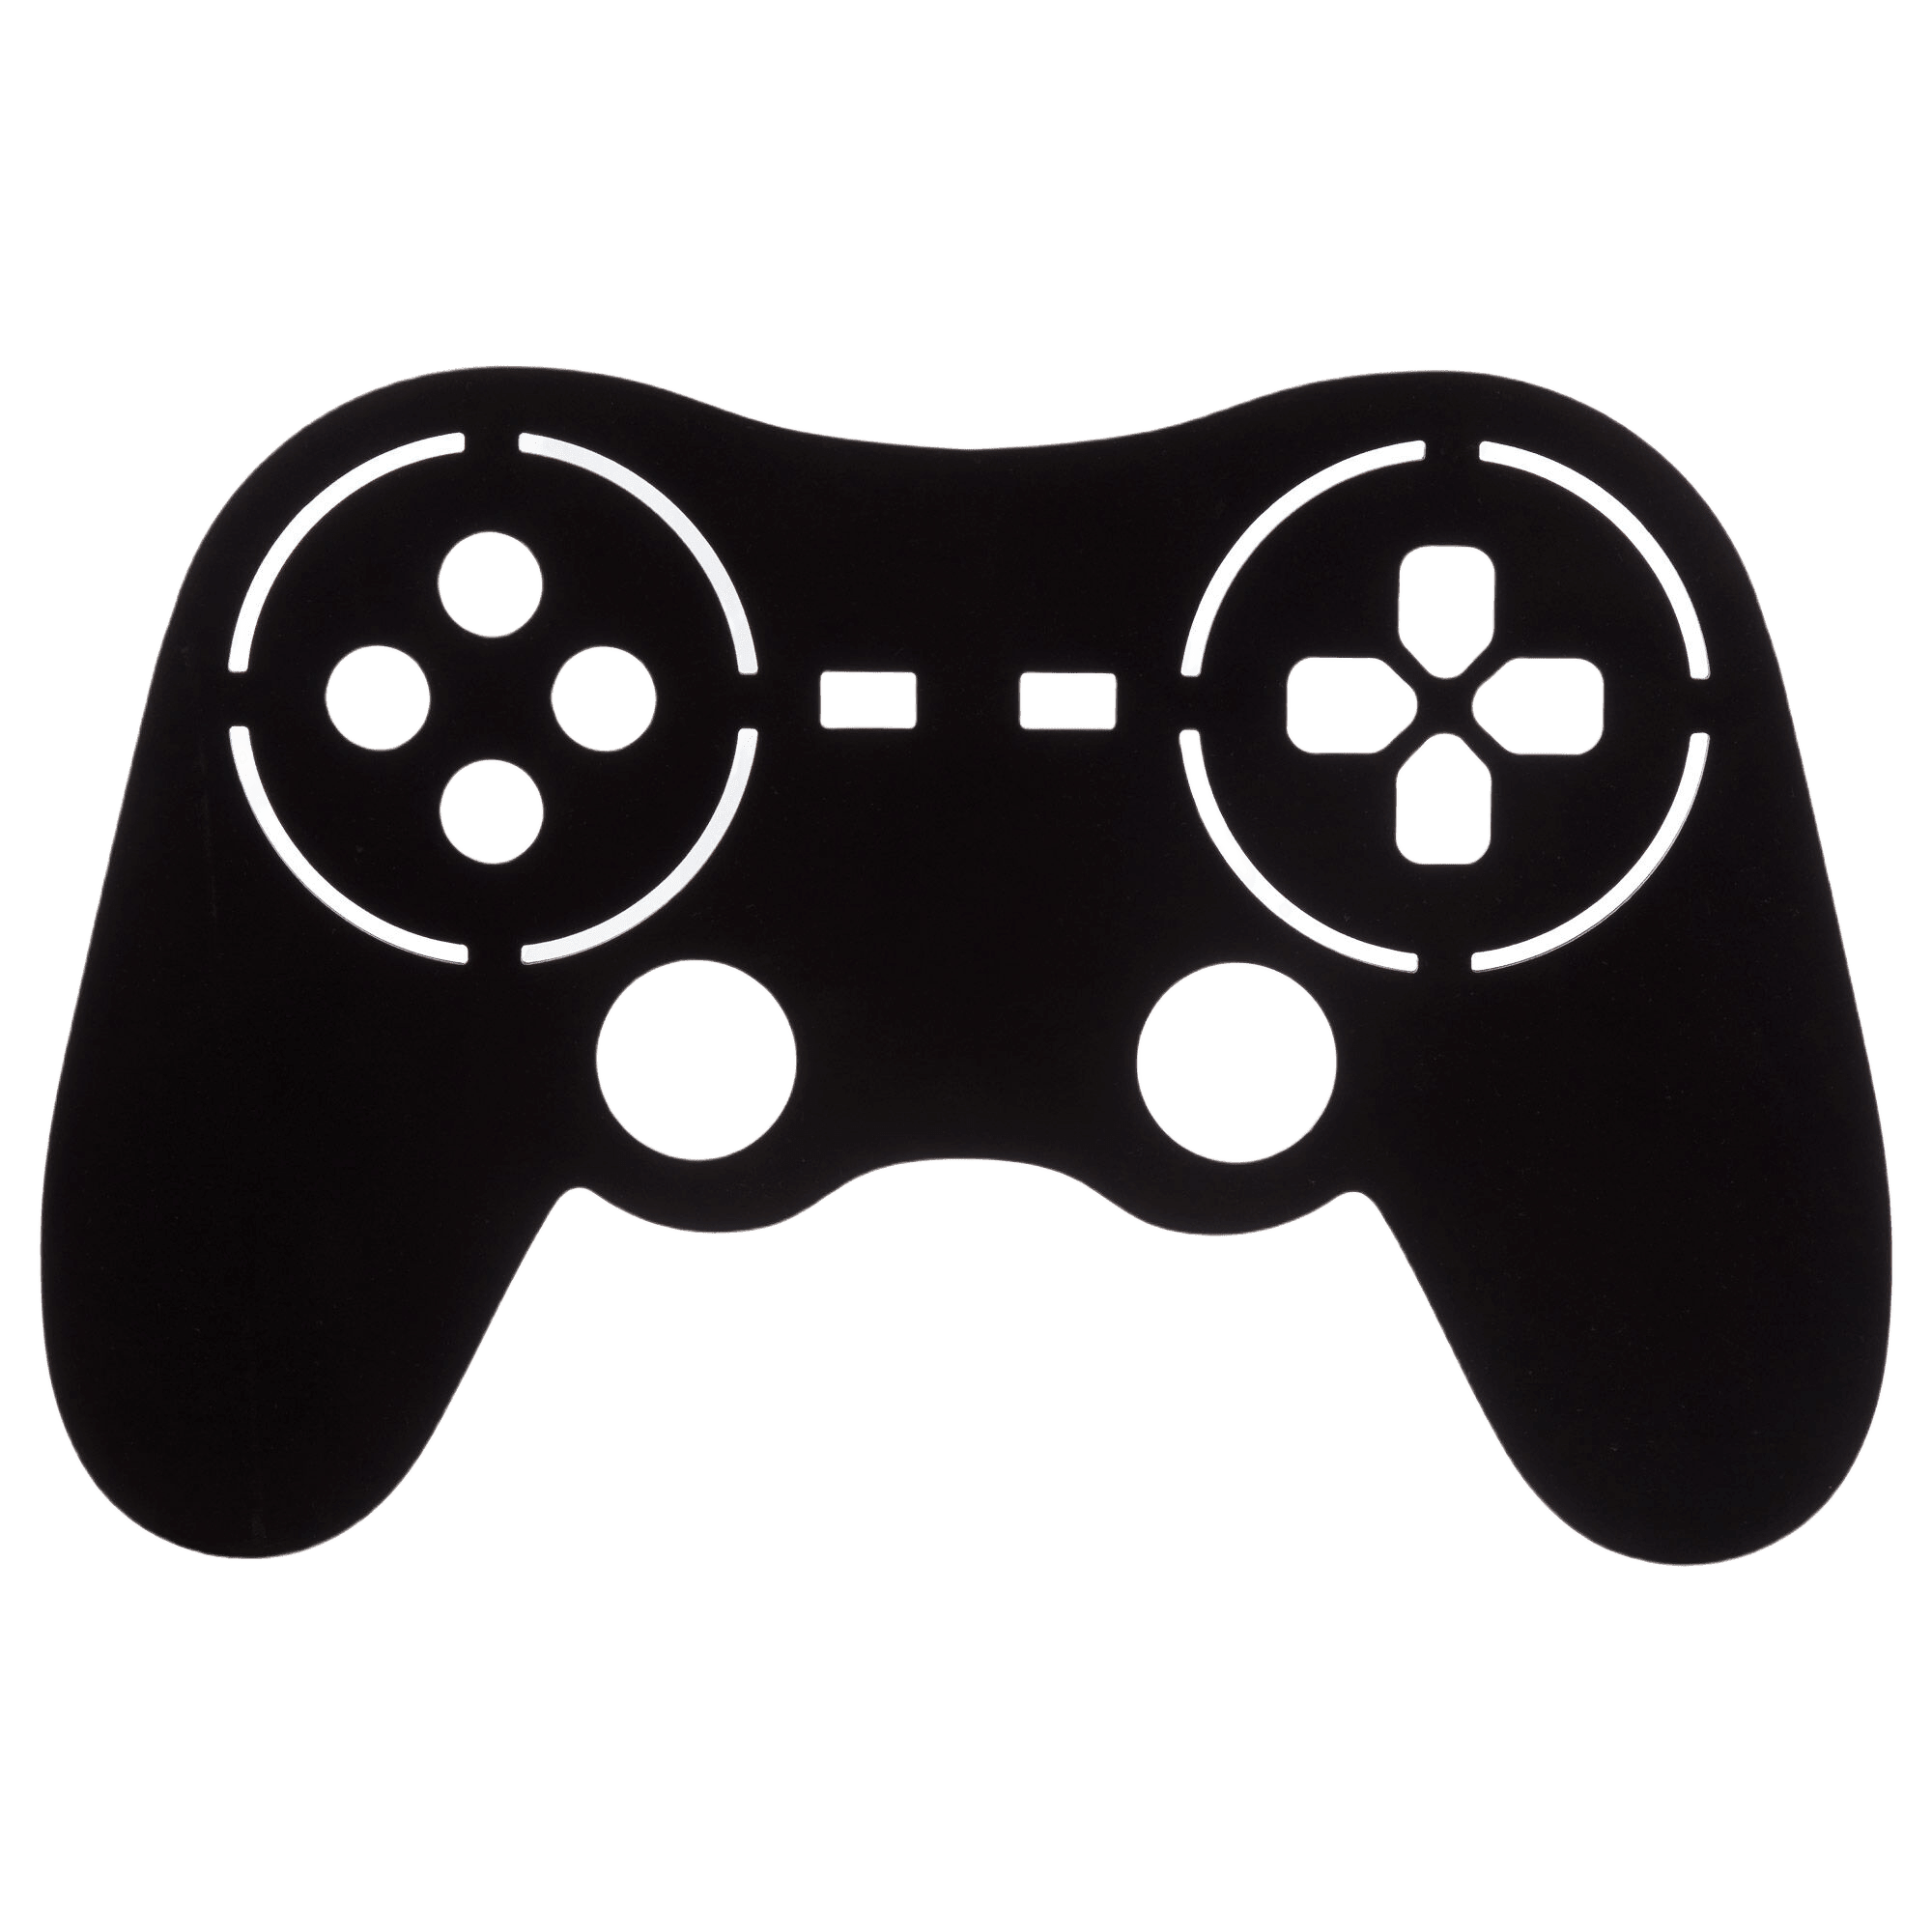controller: (39, 363, 1893, 1566)
